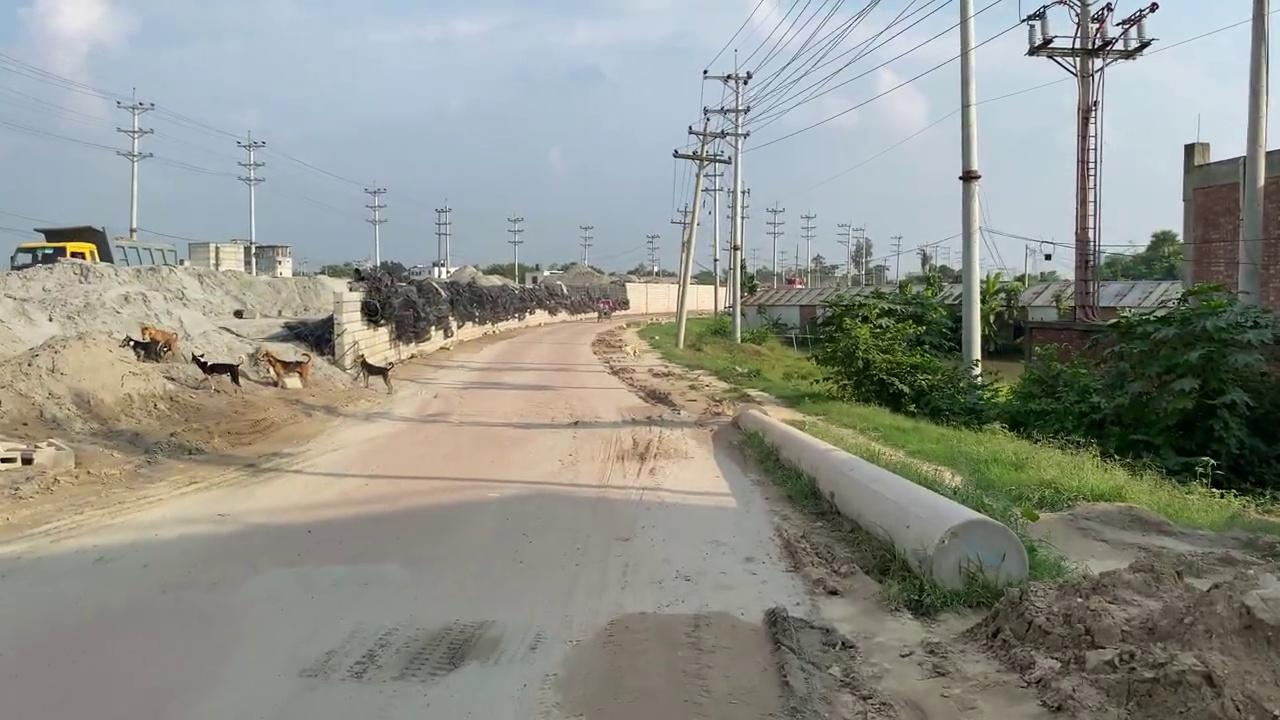Animal: (189, 350, 244, 392), (258, 349, 311, 388), (351, 353, 394, 393), (139, 324, 184, 361), (118, 333, 169, 362)
Dog: (622, 342, 638, 359)
Fence: (331, 271, 626, 372)
Motorcycle: (595, 300, 612, 321)
Obstacle: (731, 403, 1029, 598), (0, 436, 74, 474)
Pole: (1236, 0, 1269, 308), (958, 0, 982, 385)
Tree: (9, 224, 114, 270)
